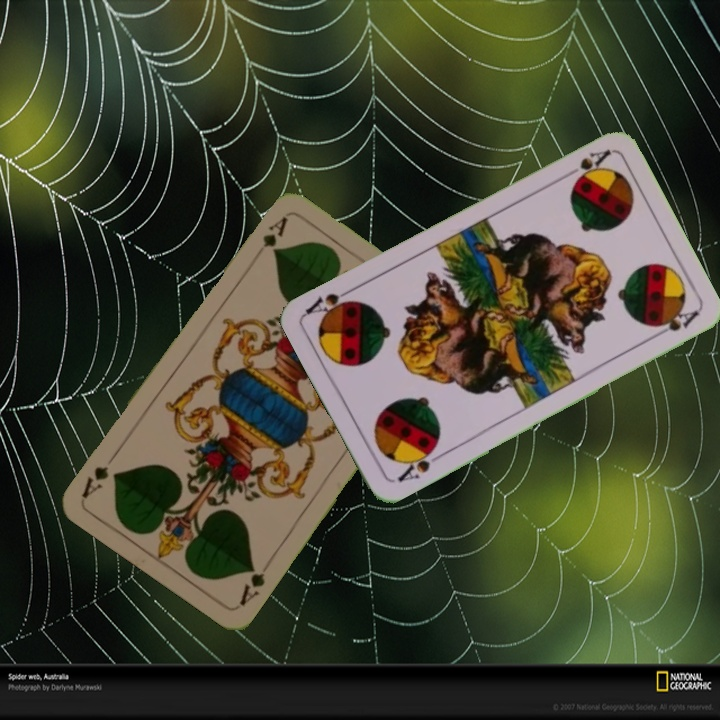GA: (234, 561, 268, 609), (258, 212, 290, 250)
SA: (558, 145, 613, 190), (393, 441, 445, 485)
